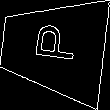P_W: (28, 27, 79, 70)
